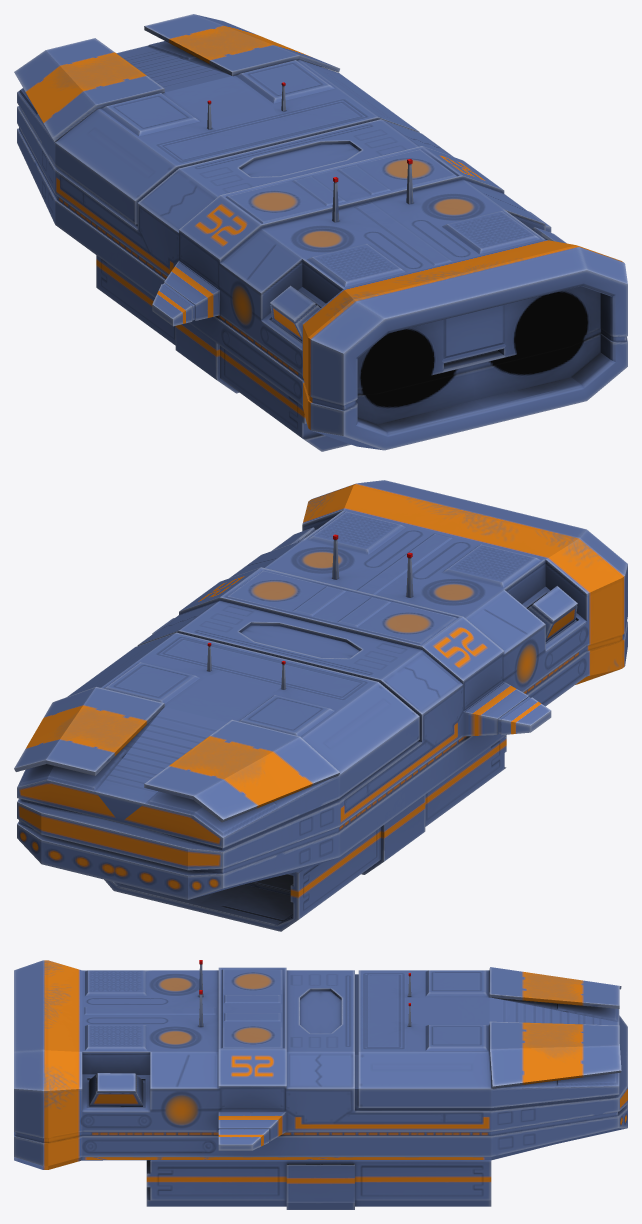
File: npcShip10.glb
3 renders of one model, top to bottom at view 1: azimuth 30°, elevation 25°; view 2: azimuth 150°, elevation 25°; view 3: azimuth 270°, elevation 25°, orthographic. The views are drawn at different scales.
Visible parts, largest first — view 1: Object_2; view 2: Object_2; view 3: Object_2.
Part boxes in pixels (x1,y1,x2,y2): Object_2: (14,14,627,451); Object_2: (14,480,627,931); Object_2: (14,960,627,1209).
Bounding box in the file's own units: 54.35 × 33.22 × 92.32.
Materials: 1 (1 with a texture image).
